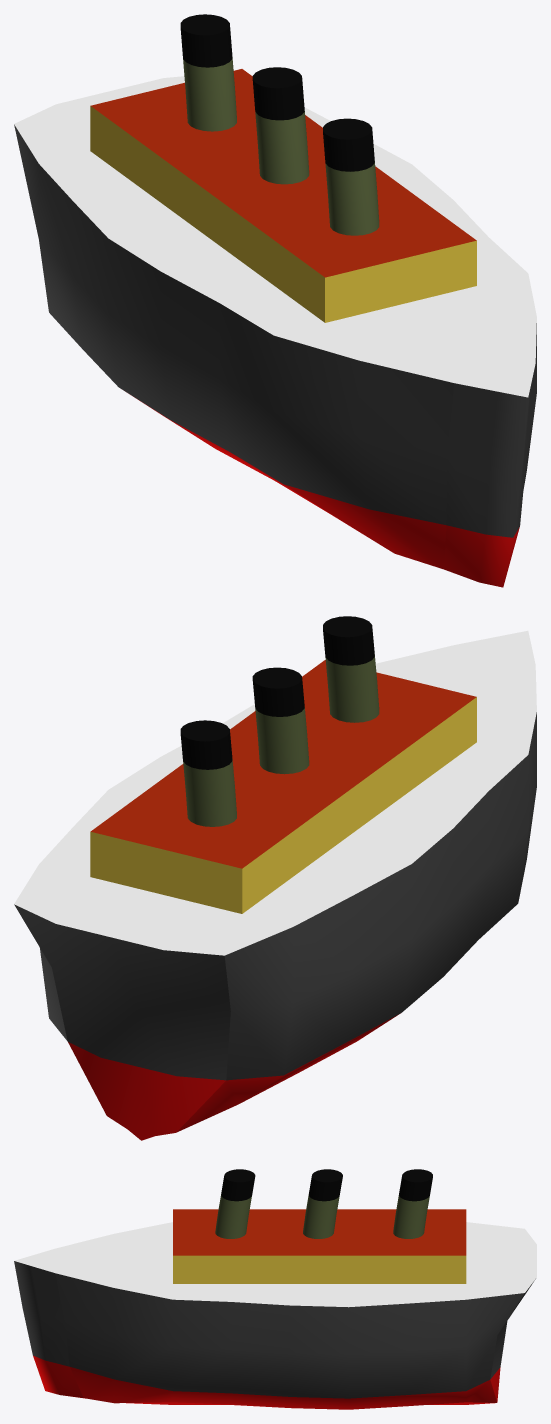
Rendered from ship1.fbx.
3 renders of one model, top to bottom at view 1: azimuth 30°, elevation 25°; view 2: azimuth 150°, elevation 25°; view 3: azimuth 270°, elevation 25°, orthographic. The views are drawn at different scales.
Parts seen in each view (by area): view 1: Shiphull; view 2: Shiphull; view 3: Shiphull.
Part boxes in pixels (x1,y1,x2,y2): Shiphull: [14, 14, 536, 587]; Shiphull: [14, 616, 536, 1140]; Shiphull: [14, 1169, 536, 1409].
Bounding box in the file's own units: 276 × 315 × 658.
